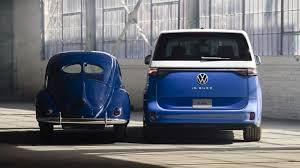volkswagen: (34, 49, 130, 140), (192, 72, 212, 87)
